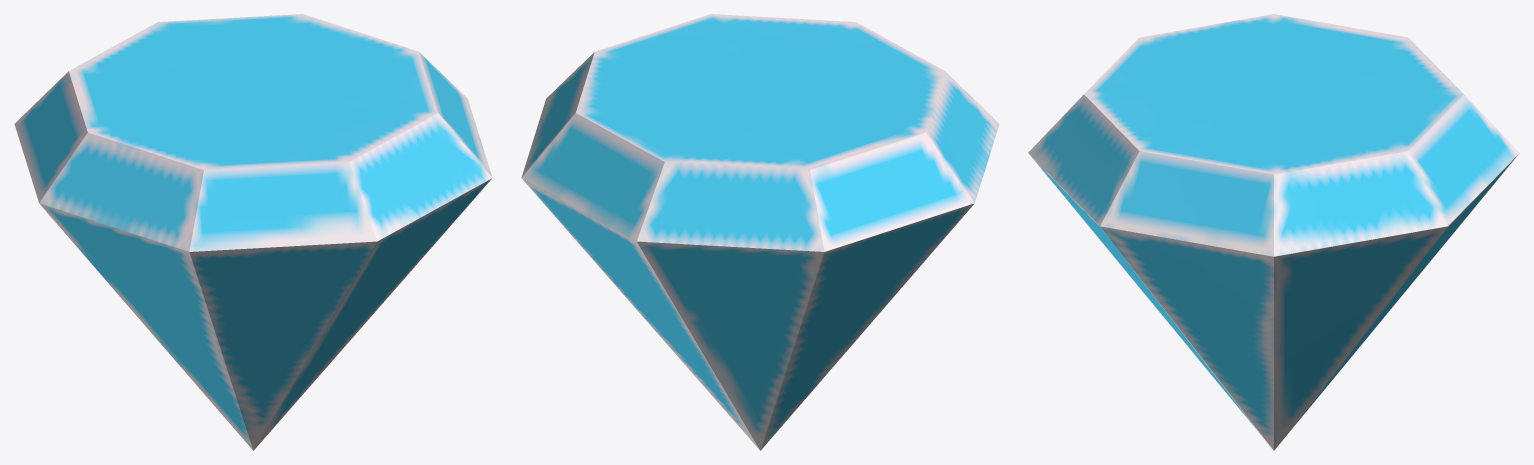
The model's file is Diamond.fbx.
3 views of the same model, side by side, from view 1: azimuth 30°, elevation 25°; view 2: azimuth 150°, elevation 25°; view 3: azimuth 270°, elevation 25° (orthographic).
Parts seen in each view (by area): view 1: Cone; view 2: Cone; view 3: Cone.
Boxes of the visible parts, x1,y1,x2,y2 form: Cone: [14, 14, 492, 450]; Cone: [521, 14, 999, 450]; Cone: [1028, 14, 1519, 450].
Bounding box in the file's own units: 100 × 100 × 80.
